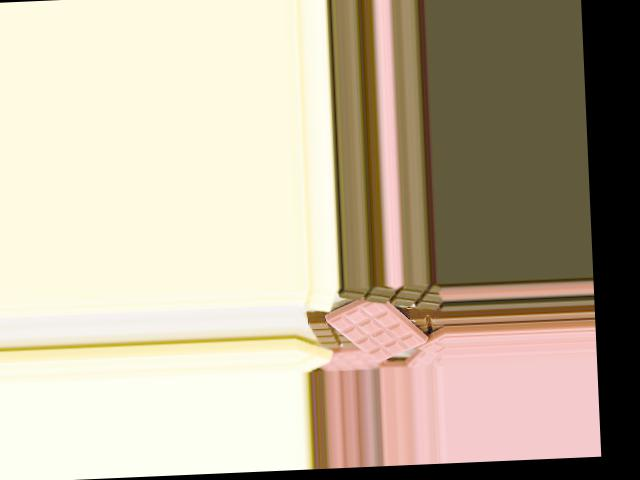chocolate: (325, 283, 429, 367)
